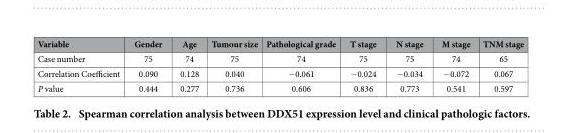table: (36, 37, 523, 94)
table column: (36, 37, 126, 94), (261, 37, 342, 94), (204, 37, 261, 94), (475, 37, 523, 94), (385, 37, 431, 94), (126, 37, 170, 94), (431, 37, 475, 94), (342, 37, 385, 94), (170, 37, 204, 94)
table column header: (36, 37, 523, 50)
table row: (36, 50, 523, 65), (36, 65, 523, 80), (36, 80, 523, 94), (36, 37, 523, 50)
